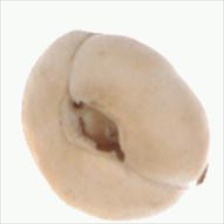L3: (62, 96, 126, 162)
L4: (20, 30, 210, 219)
